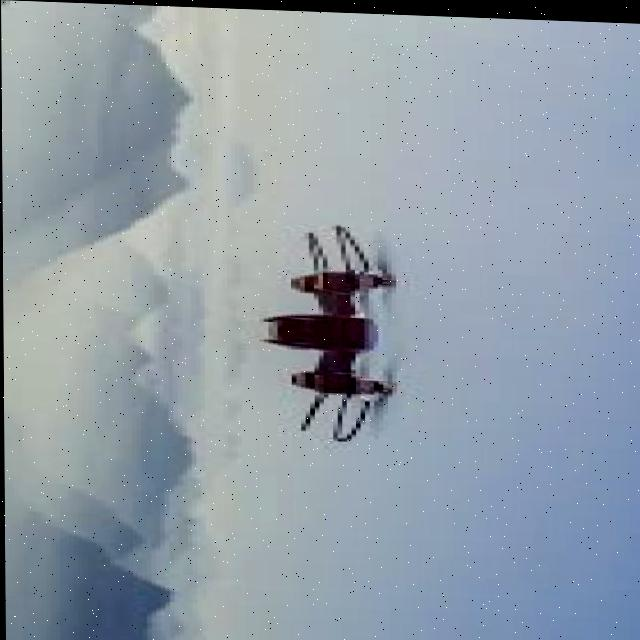drone: (220, 208, 430, 450)
